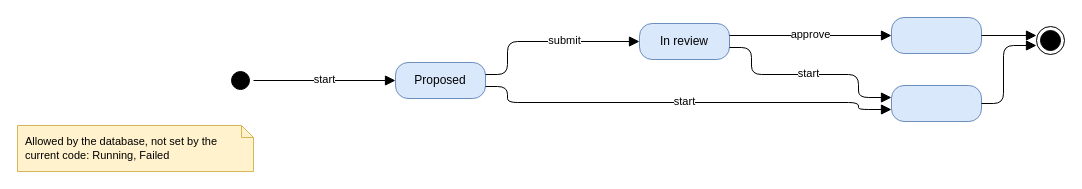
Image size: 1082x189. Some labels were removed from this diagram. Each missing label, with the box of its shape:
Committed: (890, 16, 982, 54)
Discarded: (890, 84, 982, 122)
